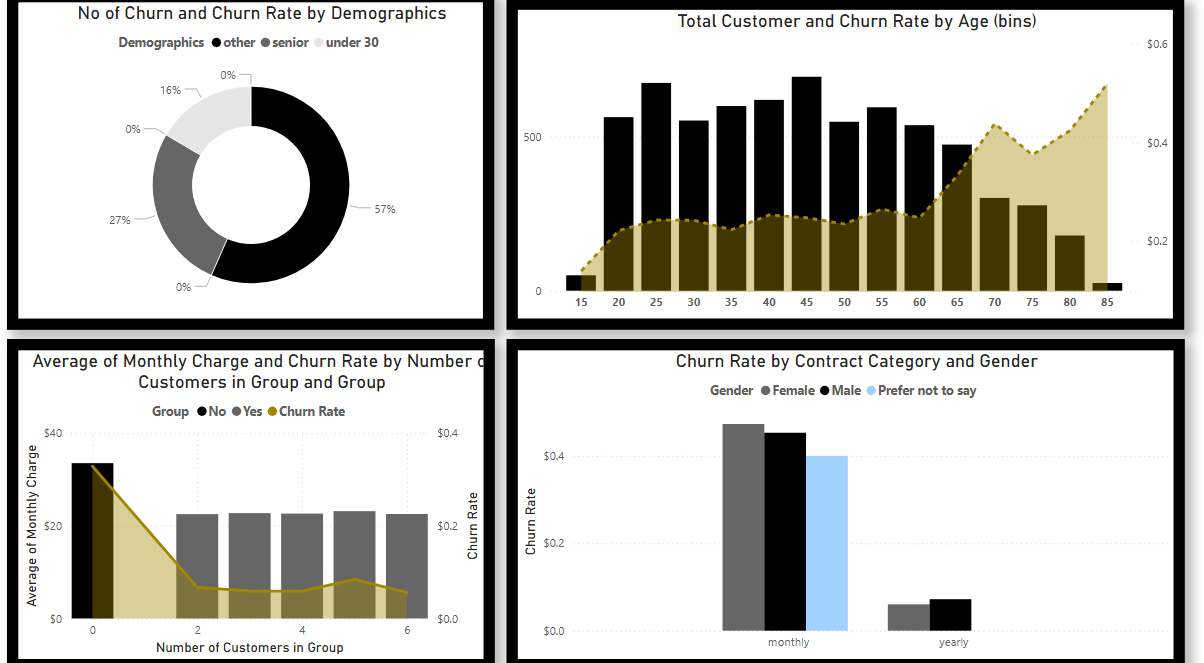

What the dashboard file says about the page in this screenshot:
{"tool":"powerbi","page":{"name":"Demographics","canvas":[1280,720],"ordinal":1},"visuals":[{"type":"donutChart","fields":{"Category":["Databel - Data.Demographics"],"Y":["Databel - Data.No of Churn","Databel - Data.Churn Rate"]},"box":[9.5,0,516.9,359.5],"z":0},{"type":"lineStackedColumnComboChart","fields":{"Y":["Databel - Data.Total Customer"],"Y2":["Databel - Data.Churn Rate"],"Category":["Databel - Data.Age (bins)"]},"box":[539.2,8,719,351.5],"z":1000},{"type":"lineStackedColumnComboChart","fields":{"Y":["Avg(Databel - Data.Monthly Charge)"],"Category":["Databel - Data.Number of Customers in Group"],"Y2":["Databel - Data.Churn Rate"],"Series":["Databel - Data.Group"]},"box":[10,369,517,351],"z":2000},{"type":"clusteredColumnChart","fields":{"Category":["Databel - Data.Contract Category"],"Y":["Databel - Data.Churn Rate"],"Series":["Databel - Data.Gender"]},"box":[539,369,719,351],"z":3000}]}

Visuals, with their boxes in screenshot pixels (x1, y1, x2, y2), scaled from the page's 1280x720 canvas onto the 1204x663 screenshot:
donutChart - Databel - Data.Demographics x Databel - Data.No of Churn: (9,0,495,331)
lineStackedColumnComboChart - Databel - Data.Total Customer x Databel - Data.Churn Rate: (507,7,1183,331)
lineStackedColumnComboChart - Avg(Databel - Data.Monthly Charge) x Databel - Data.Number of Customers in Group: (9,340,496,662)
clusteredColumnChart - Databel - Data.Contract Category x Databel - Data.Churn Rate: (507,340,1183,662)
